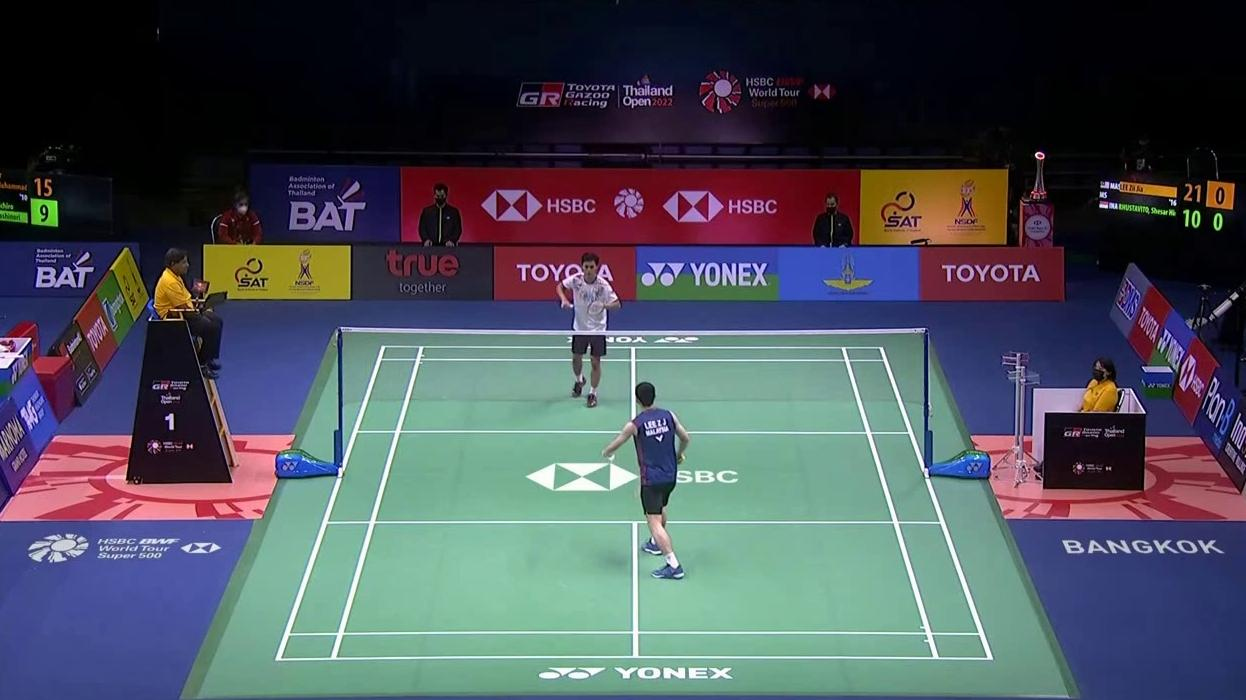racket: (560, 299, 605, 316)
shuttle: (601, 448, 616, 462)
